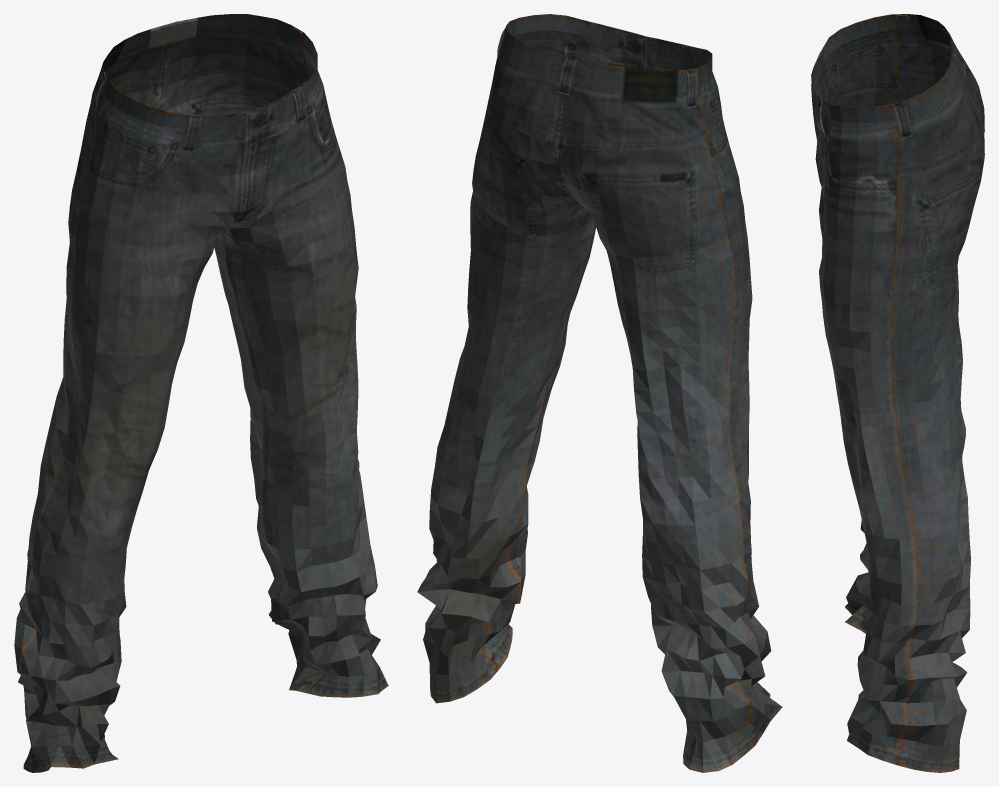
The model's file is mhw_mindfront_male_trousers_1.glb.
3 renders of one model, left to right at view 1: azimuth 30°, elevation 25°; view 2: azimuth 150°, elevation 25°; view 3: azimuth 270°, elevation 25°, orthographic. The views are drawn at different scales.
Visible parts, largest first — view 1: mhw_mindfront_male_trousers_1; view 2: mhw_mindfront_male_trousers_1; view 3: mhw_mindfront_male_trousers_1.
Boxes of the visible parts, box(x1,y1,x2,y2) form: mhw_mindfront_male_trousers_1: box(14, 14, 388, 772); mhw_mindfront_male_trousers_1: box(417, 14, 782, 772); mhw_mindfront_male_trousers_1: box(811, 14, 984, 772).
Size of the model in its own units: 0.5519 by 1.07 by 0.2542.
Materials: 1 (1 with a texture image).
